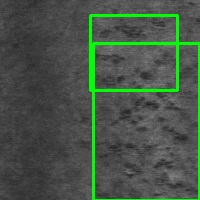rolled-in_scale: (93, 43, 199, 200), (90, 15, 177, 90)
